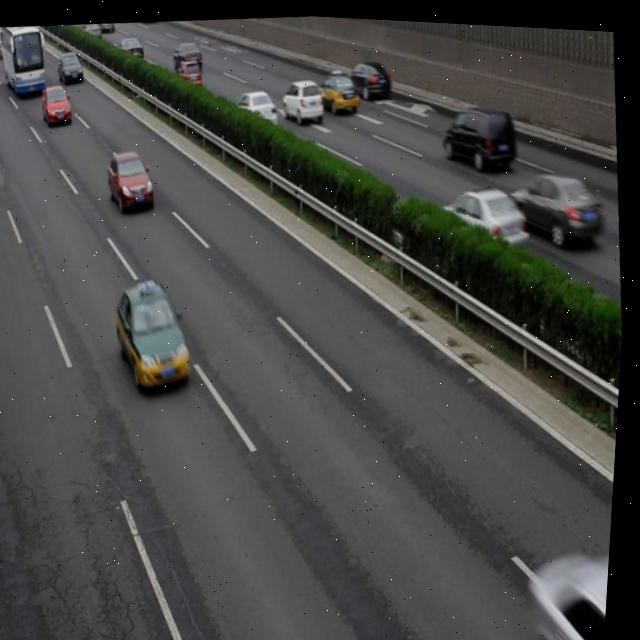car: (113, 275, 200, 395), (512, 161, 608, 247), (533, 548, 616, 640), (440, 178, 534, 251), (105, 149, 158, 214), (315, 66, 361, 112), (280, 76, 325, 121), (347, 55, 393, 98), (234, 85, 279, 127), (40, 82, 74, 126), (171, 38, 204, 70), (57, 50, 85, 84), (176, 56, 204, 86), (116, 34, 145, 61)
truck: (439, 97, 519, 170)
van: (0, 23, 50, 98)
